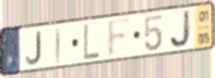5: (143, 12, 164, 52)
F: (106, 15, 133, 59)
I: (55, 26, 62, 65)
J: (168, 8, 194, 50), (24, 29, 44, 66)
L: (83, 22, 101, 61)
